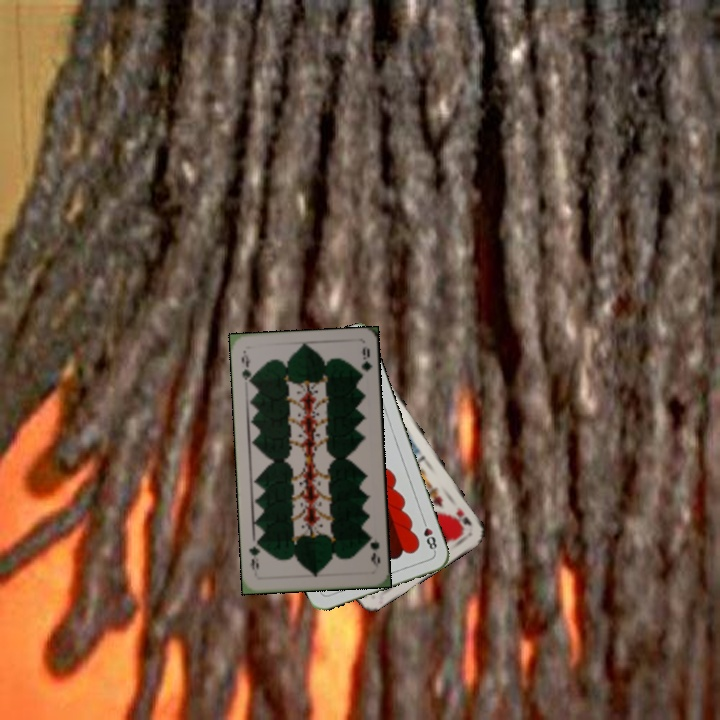G9: (364, 531, 383, 571), (238, 348, 255, 386)
H8: (418, 515, 439, 555)
HK: (452, 503, 475, 528)
